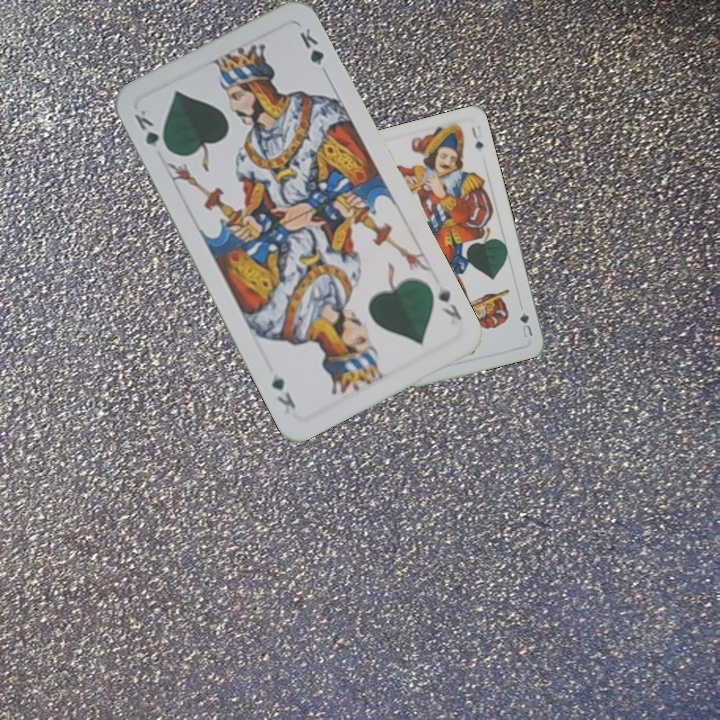GK: (130, 105, 172, 155), (434, 281, 465, 323)
GU: (516, 308, 535, 340)
